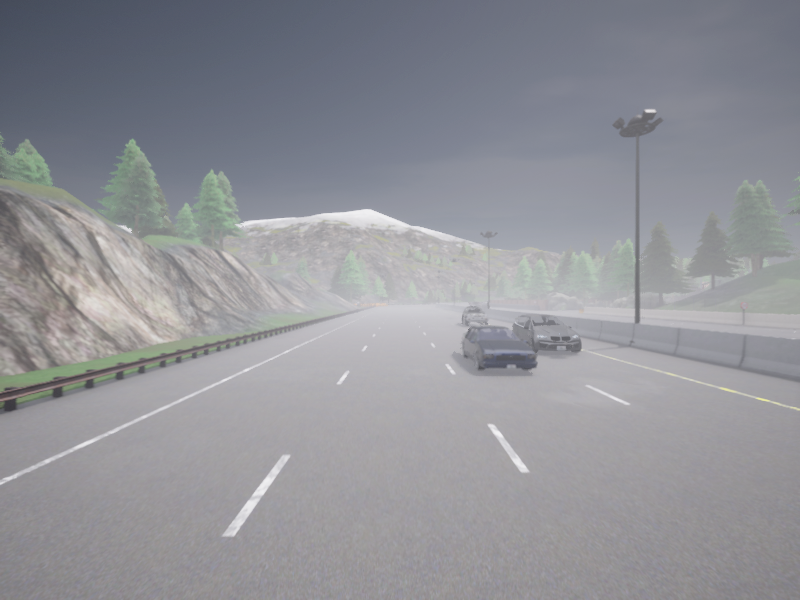vehicle: (460, 326, 537, 370), (512, 314, 581, 352), (462, 306, 487, 325), (479, 303, 487, 308), (472, 302, 478, 306), (480, 301, 486, 303), (470, 301, 472, 304), (478, 302, 480, 304)
